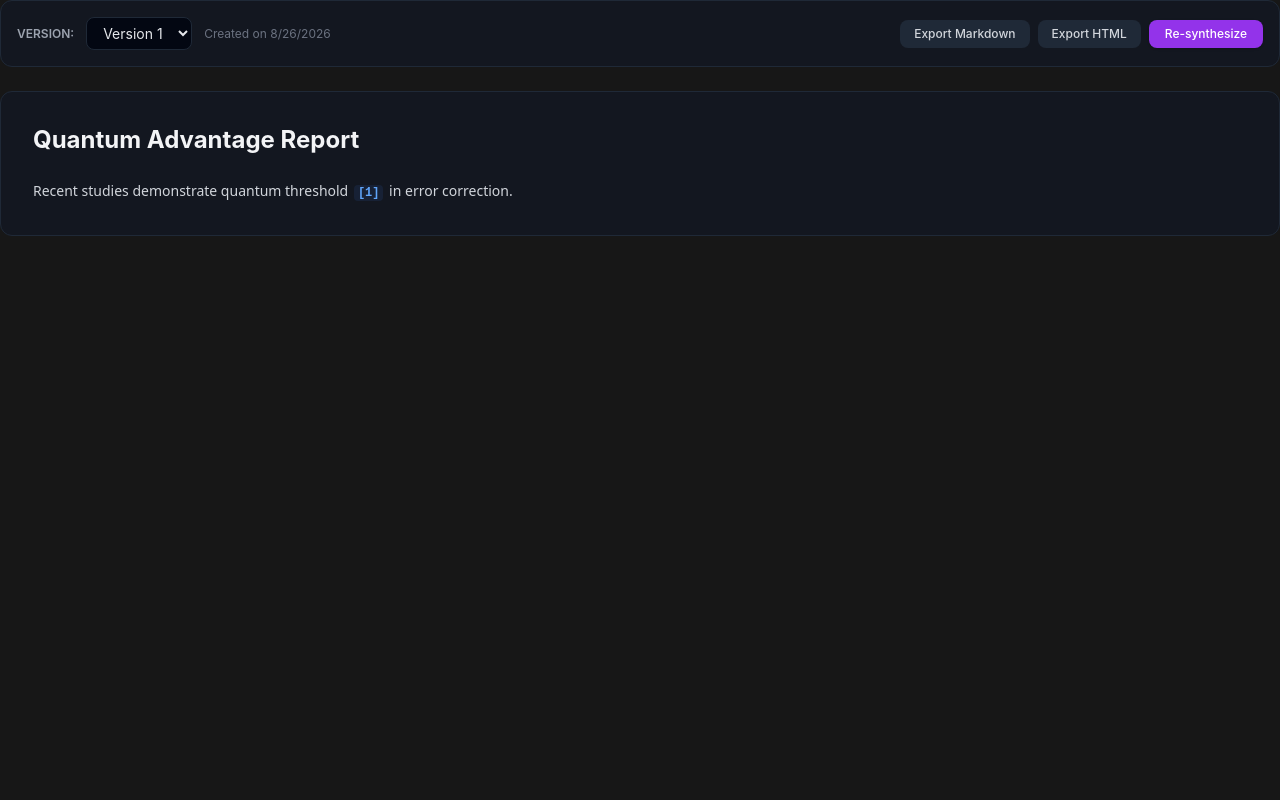
Test: ReportTab Component › renders report content and opens citation drawer on clicking inline citation tag
Check: the heading "Quantum Advantage Report" is shown, box 33,125 -> 359,154
Click the button "[1]" at {"x": 369, "y": 193}, box 354,185 -> 384,201
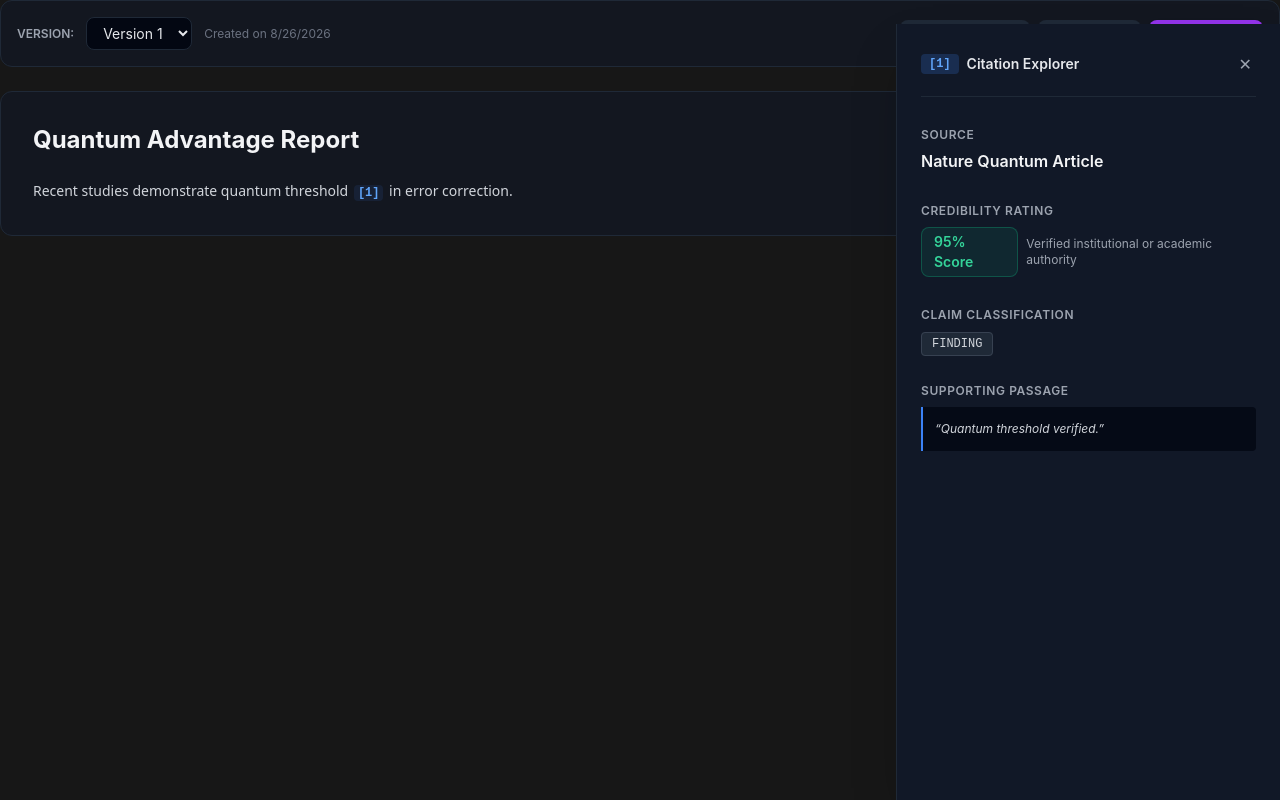
Check: the text "Citation Explorer" is shown, box 967,54 -> 1079,74
Check: the heading "Nature Quantum Article" is shown, box 921,151 -> 1103,171
Check: the text "95% Score" is shown, box 921,227 -> 1018,277
